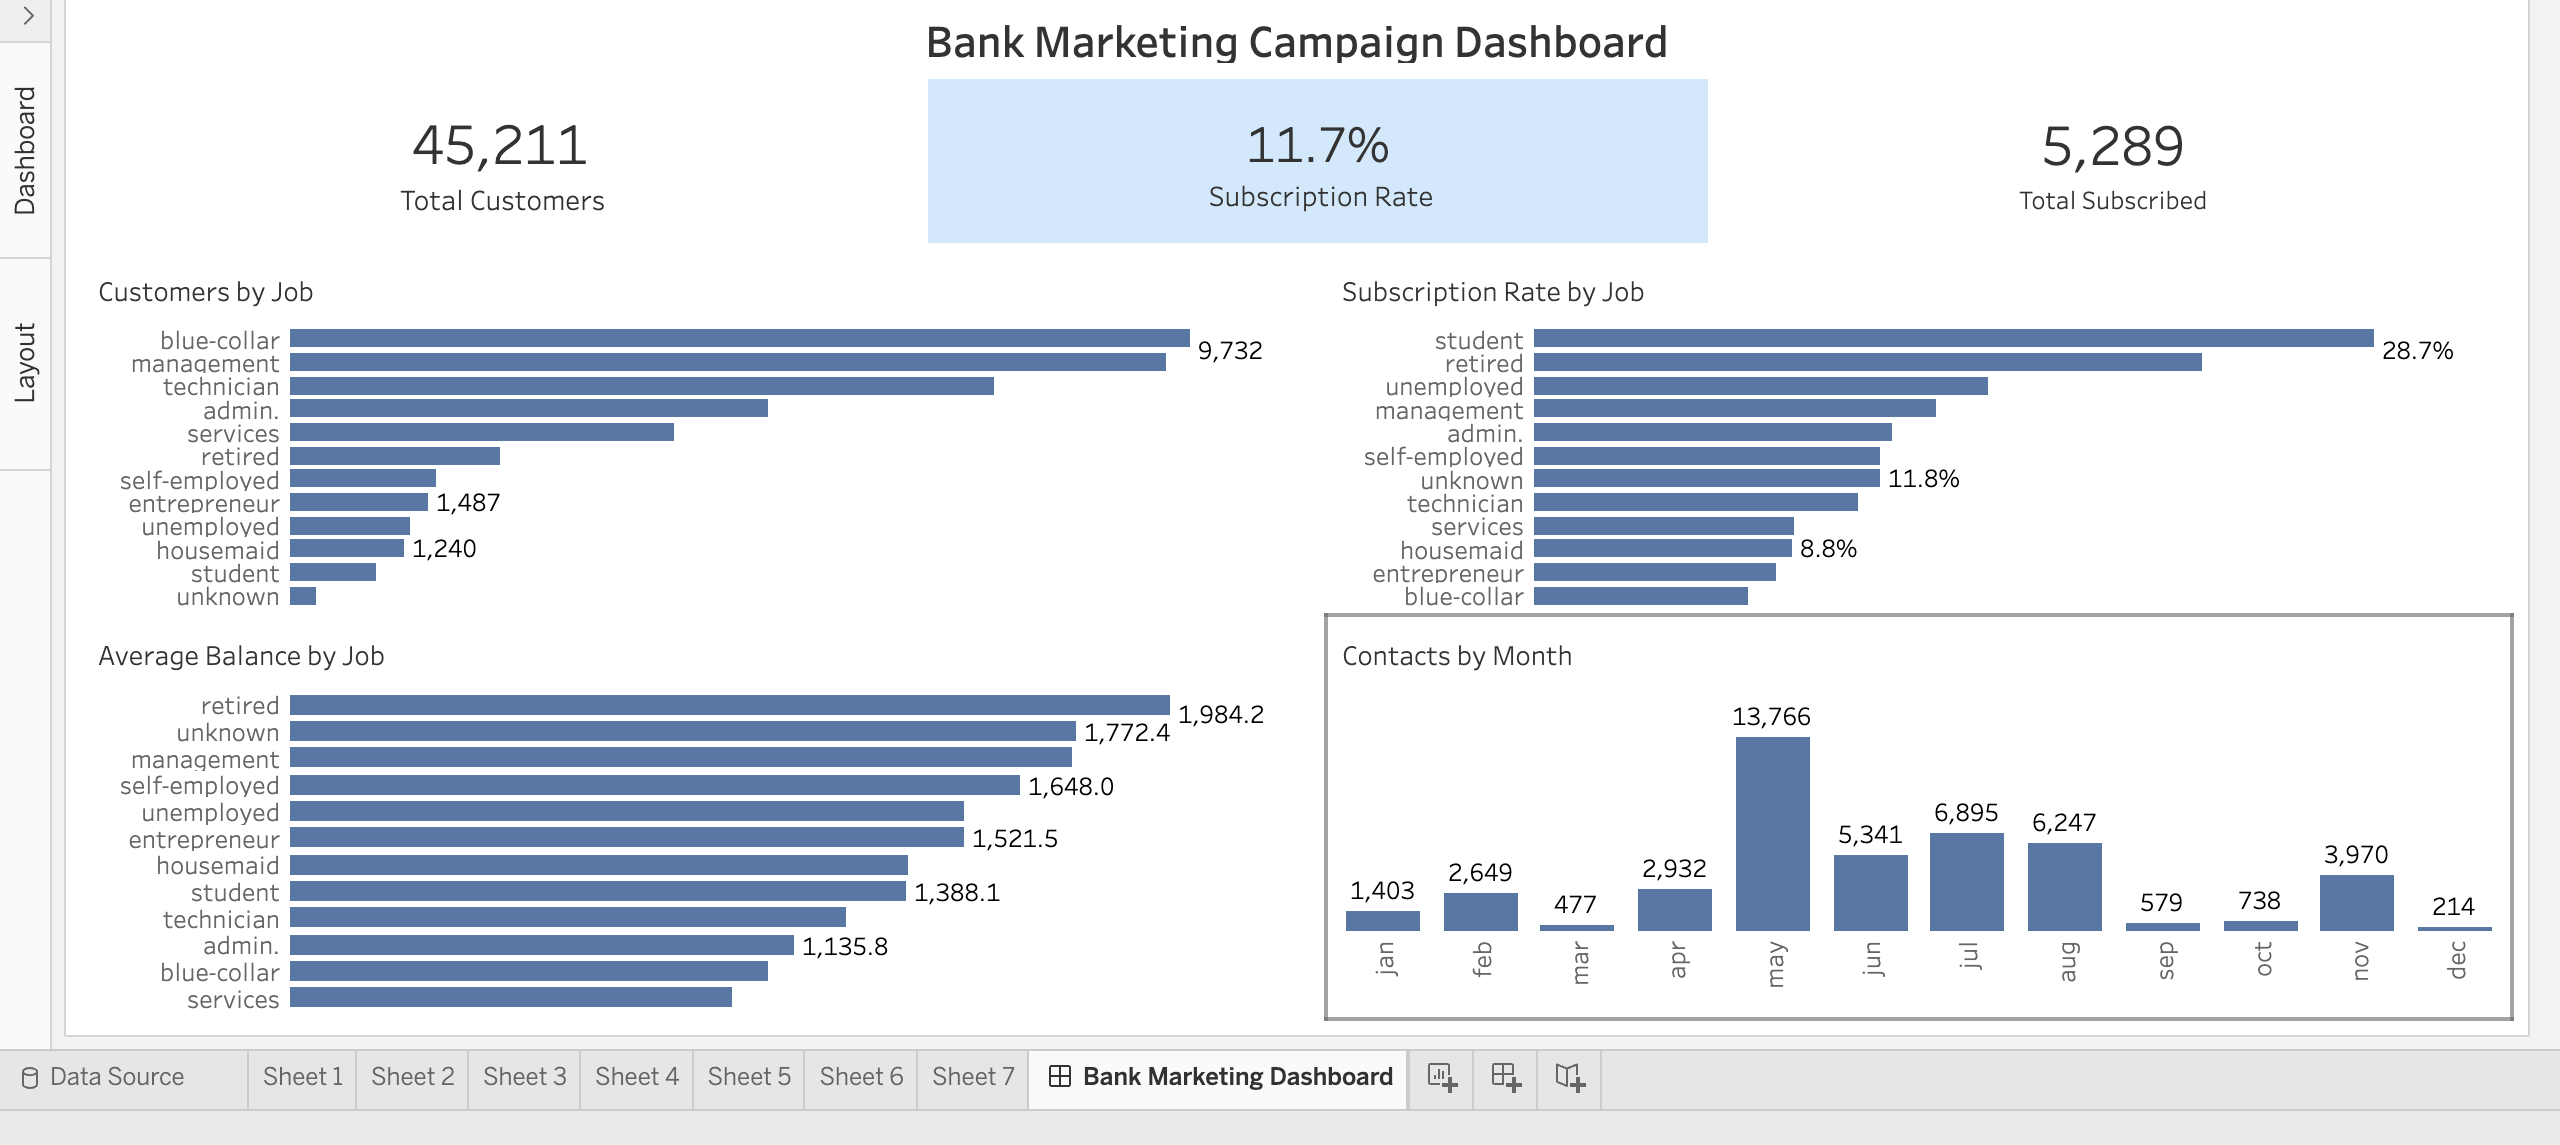

The dashboard page shown, as its layout file describes it:
{"tool":"tableau","page":{"name":"Bank Marketing Dashboard","canvas":[1000,1000],"units":"permille","ordinal":0},"visuals":[{"type":"title","box":[6.4,11.8,987.2,54.4]},{"type":"worksheet","title":"Sheet 1","mark":"Automatic","box":[6.4,66.2,329.1,143.6]},{"type":"worksheet","title":"Sheet 3","mark":"Automatic","box":[335.5,66.2,329.1,143.6]},{"type":"worksheet","title":"Sheet 2","mark":"Automatic","box":[664.5,66.2,329.1,143.6]},{"type":"worksheet","title":"Sheet 4","mark":"Automatic","rows":["job"],"cols":["bank_marketing_cleaned.csv_4ED3C0C2136E4192B5607844F577D1AE"],"box":[6.4,209.8,482.5,386.1]},{"type":"worksheet","title":"Sheet 5","mark":"Automatic","rows":["job"],"cols":["Calculation_3066772516593667"],"box":[488.8,209.8,504.8,386.1]},{"type":"worksheet","title":"Sheet 7","mark":"Automatic","rows":["job"],"cols":["balance"],"box":[6.4,595.8,493.6,392.4]},{"type":"worksheet","title":"Sheet 6","mark":"Automatic","rows":["bank_marketing_cleaned.csv_4ED3C0C2136E4192B5607844F577D1AE"],"cols":["month"],"box":[500,595.8,493.6,392.4]}]}

Visuals, with their boxes on the dashboard's canvas, which has no fixed pixel size, in thousandths of its width and height (x1, y1, x2, y2). These are canvas units, not pixel positions in the 2560x1145 screenshot, which may show the page scaled, cropped or inside an application window:
title: 6/12/994/66
"Sheet 1" worksheet: 6/66/336/210
"Sheet 3" worksheet: 336/66/665/210
"Sheet 2" worksheet: 664/66/994/210
"Sheet 4" worksheet: 6/210/489/596
"Sheet 5" worksheet: 489/210/994/596
"Sheet 7" worksheet: 6/596/500/988
"Sheet 6" worksheet: 500/596/994/988
